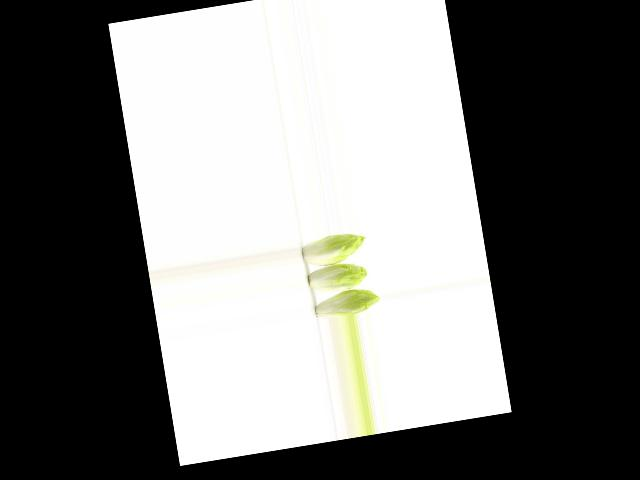lettuce: (297, 229, 369, 268)
